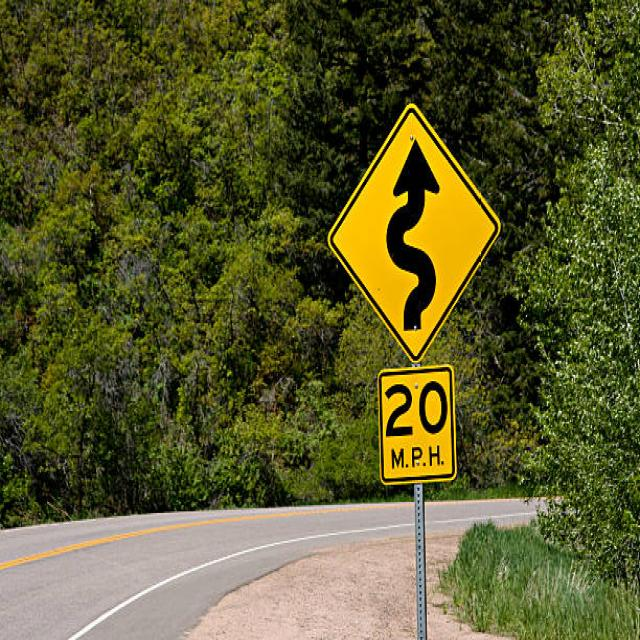left_sharp_curve: (319, 93, 512, 362)
